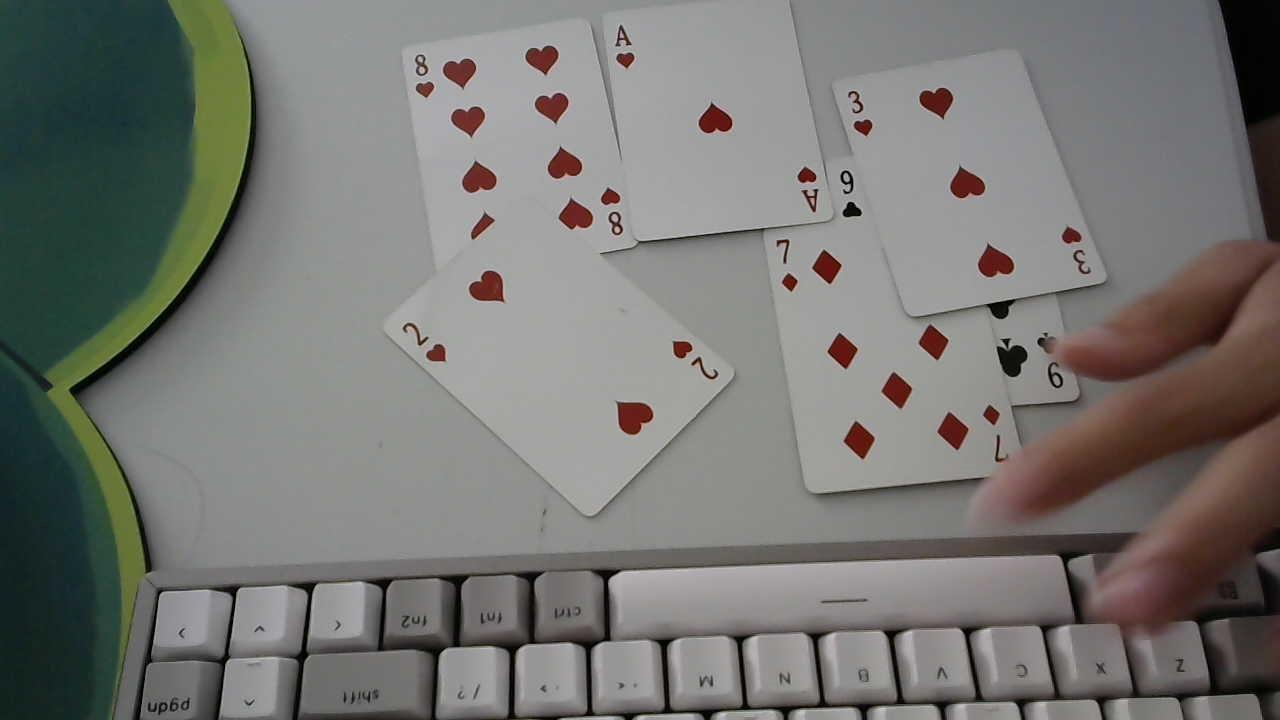2H: (399, 318, 454, 369), (669, 336, 724, 387)
3H: (1056, 220, 1097, 281), (845, 83, 881, 141)
7D: (979, 401, 1019, 473), (772, 235, 805, 299)
8H: (598, 185, 630, 241), (408, 49, 438, 103)
9C: (1037, 329, 1074, 396), (830, 169, 869, 218)
AH: (795, 163, 822, 222), (613, 19, 640, 72)
